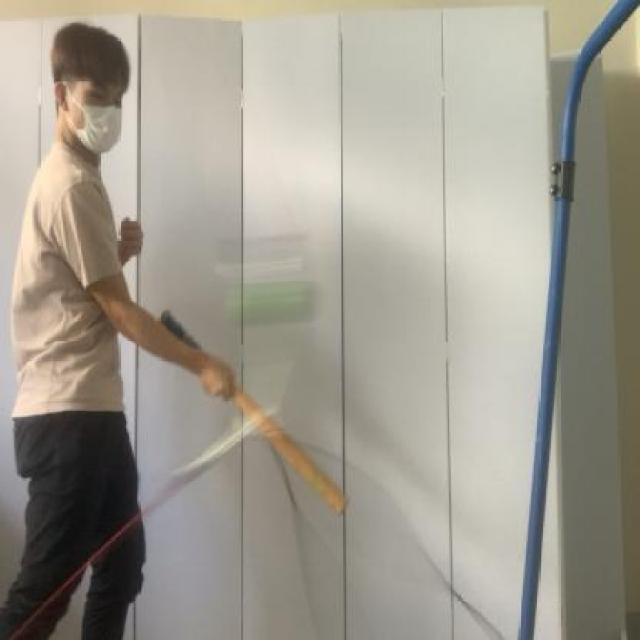baseball: (203, 250, 334, 338)
